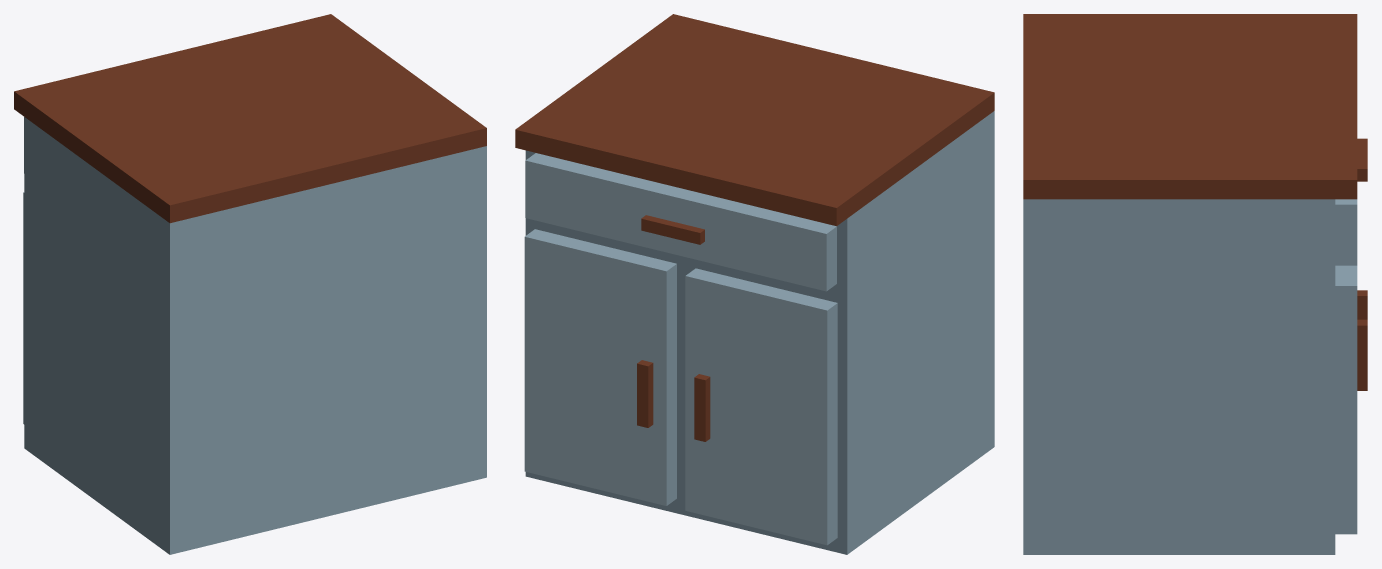
The model's file is countertop.fbx.
3 views of the same model, side by side, from view 1: azimuth 30°, elevation 25°; view 2: azimuth 150°, elevation 25°; view 3: azimuth 270°, elevation 25° (orthographic). The views are drawn at different scales.
Parts seen in each view (by area): view 1: Countertop; view 2: Countertop; view 3: Countertop.
Boxes of the visible parts, x1,y1,x2,y2 form: Countertop: [14, 14, 486, 554]; Countertop: [515, 14, 994, 554]; Countertop: [1023, 14, 1367, 554].
Bounding box in the file's own units: 77.86 × 82.03 × 68.32.
